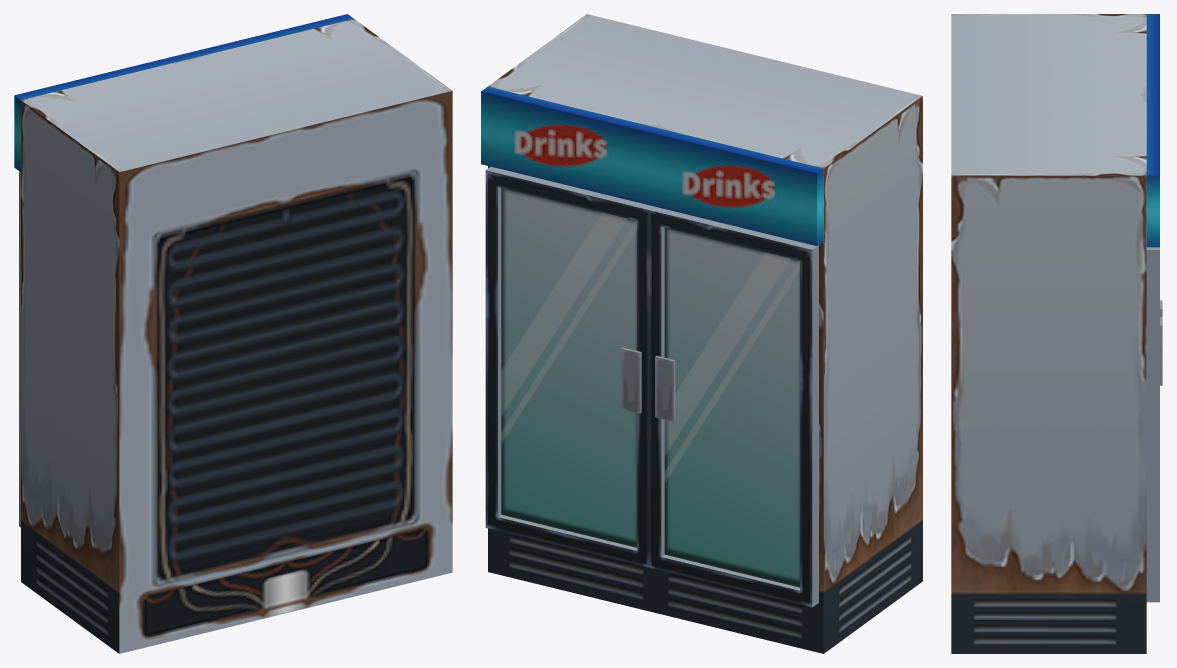
The model's file is FUR0110015.fbx.
The picture shows the model from 3 angles, left to right: view 1: azimuth 30°, elevation 25°; view 2: azimuth 150°, elevation 25°; view 3: azimuth 270°, elevation 25°; orthographic projection.
Visible parts, largest first — view 1: smFUR0110015; view 2: smFUR0110015; view 3: smFUR0110015.
Part boxes in pixels (<box>): smFUR0110015: <box>14,14,452,653</box>; smFUR0110015: <box>481,14,922,653</box>; smFUR0110015: <box>951,14,1162,653</box>.
Size of the model in its own units: 167 by 230 by 92.08.
1 material, 1 textured.
